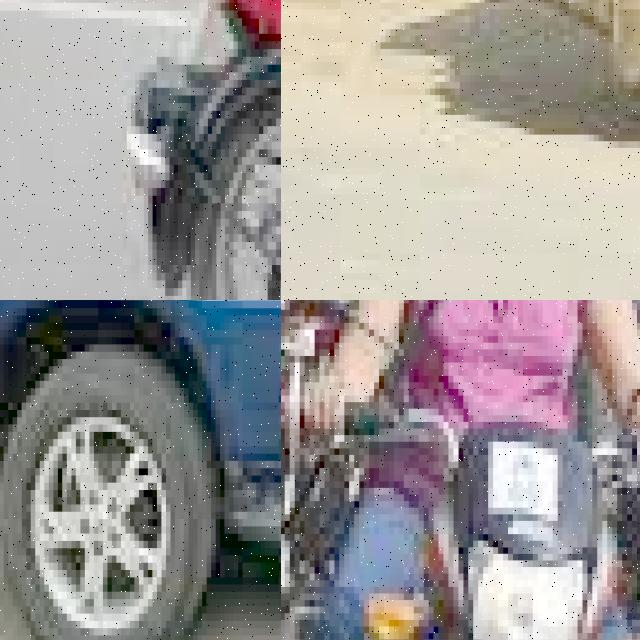bike: (319, 376, 640, 640), (118, 0, 281, 300), (281, 300, 369, 640)
car: (0, 300, 281, 640)
